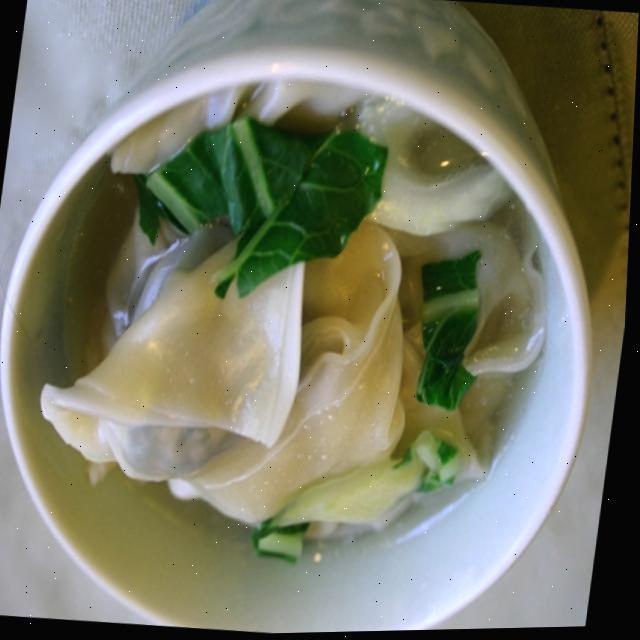汤锅炖物: (0, 38, 612, 640)
